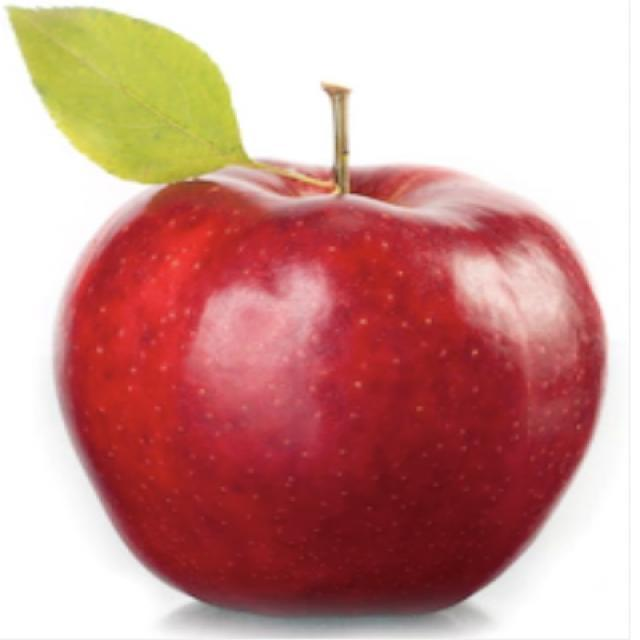Fresh Apple: (87, 157, 610, 608)
